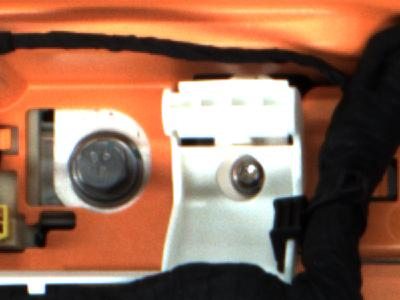nut_b: (64, 131, 149, 210)
